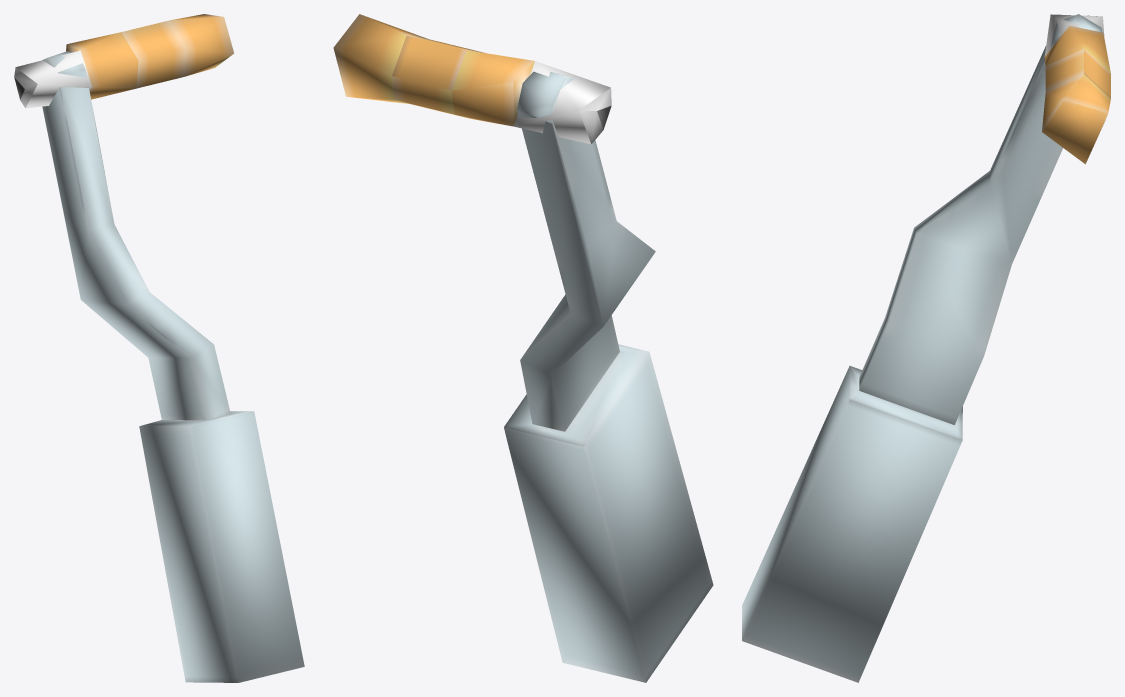
Rendered from main_lever_right.obj.
3 views of the same model, side by side, from view 1: azimuth 30°, elevation 25°; view 2: azimuth 150°, elevation 25°; view 3: azimuth 270°, elevation 25° (orthographic). The views are drawn at different scales.
Parts seen in each view (by area): view 1: 8.Console_Main_Lever_Right; view 2: 8.Console_Main_Lever_Right; view 3: 8.Console_Main_Lever_Right.
Boxes of the visible parts, x1,y1,x2,y2 form: 8.Console_Main_Lever_Right: [14, 14, 304, 682]; 8.Console_Main_Lever_Right: [333, 14, 713, 682]; 8.Console_Main_Lever_Right: [742, 14, 1110, 682].
Bounding box in the file's own units: 0.0809 × 0.2187 × 0.118.
Materials: 1 (1 with a texture image).
